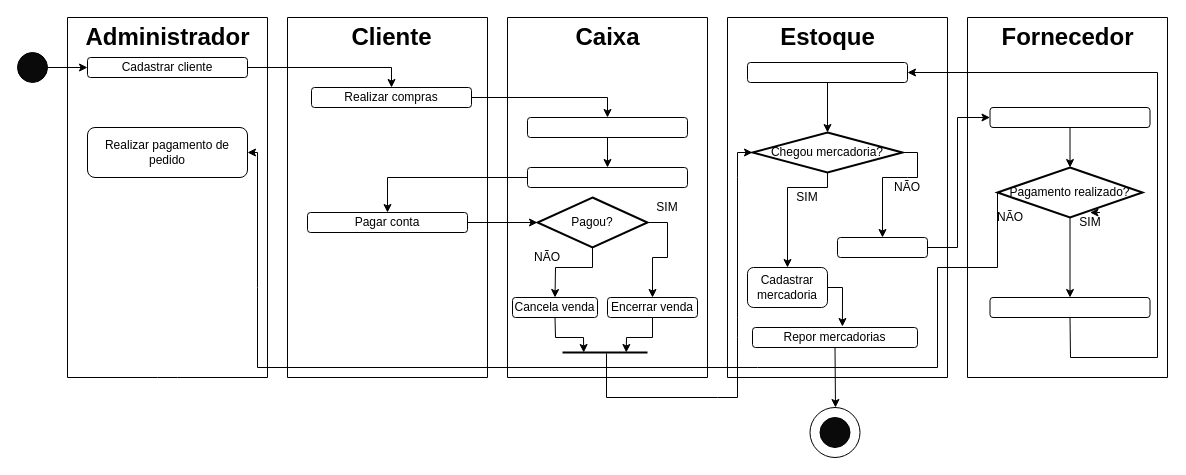
Some shapes in this 1186 by 475 pixel diagram are drawn without their labels. Each missing label, with the box of its shape:
Embalar compras: (526, 166, 688, 188)
Enviar mercadoria: (989, 296, 1150, 318)
Fazer pedido: (836, 236, 928, 258)
Receber mercadoria: (746, 62, 908, 82)
Receber pedido: (989, 106, 1150, 128)
Validar compras: (526, 116, 688, 138)
